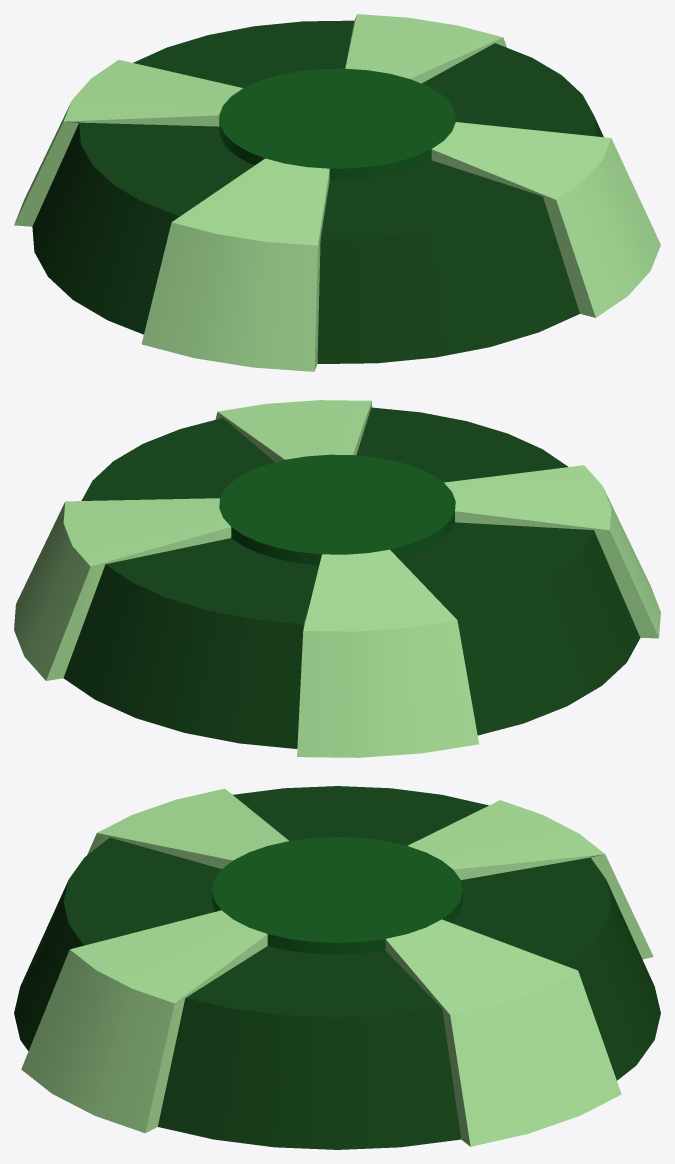
File: ring2.glb
3 renders of one model, top to bottom at view 1: azimuth 30°, elevation 25°; view 2: azimuth 150°, elevation 25°; view 3: azimuth 270°, elevation 25°, orthographic. The views are drawn at different scales.
Parts seen in each view (by area): view 1: ring; view 2: ring; view 3: ring.
Part boxes in pixels (x1,y1,x2,y2): ring: [14, 14, 660, 371]; ring: [14, 400, 660, 757]; ring: [14, 786, 660, 1149].
Size of the model in its own units: 0.4 by 0.0841 by 0.4.
